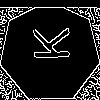K: (25, 27, 70, 61)
